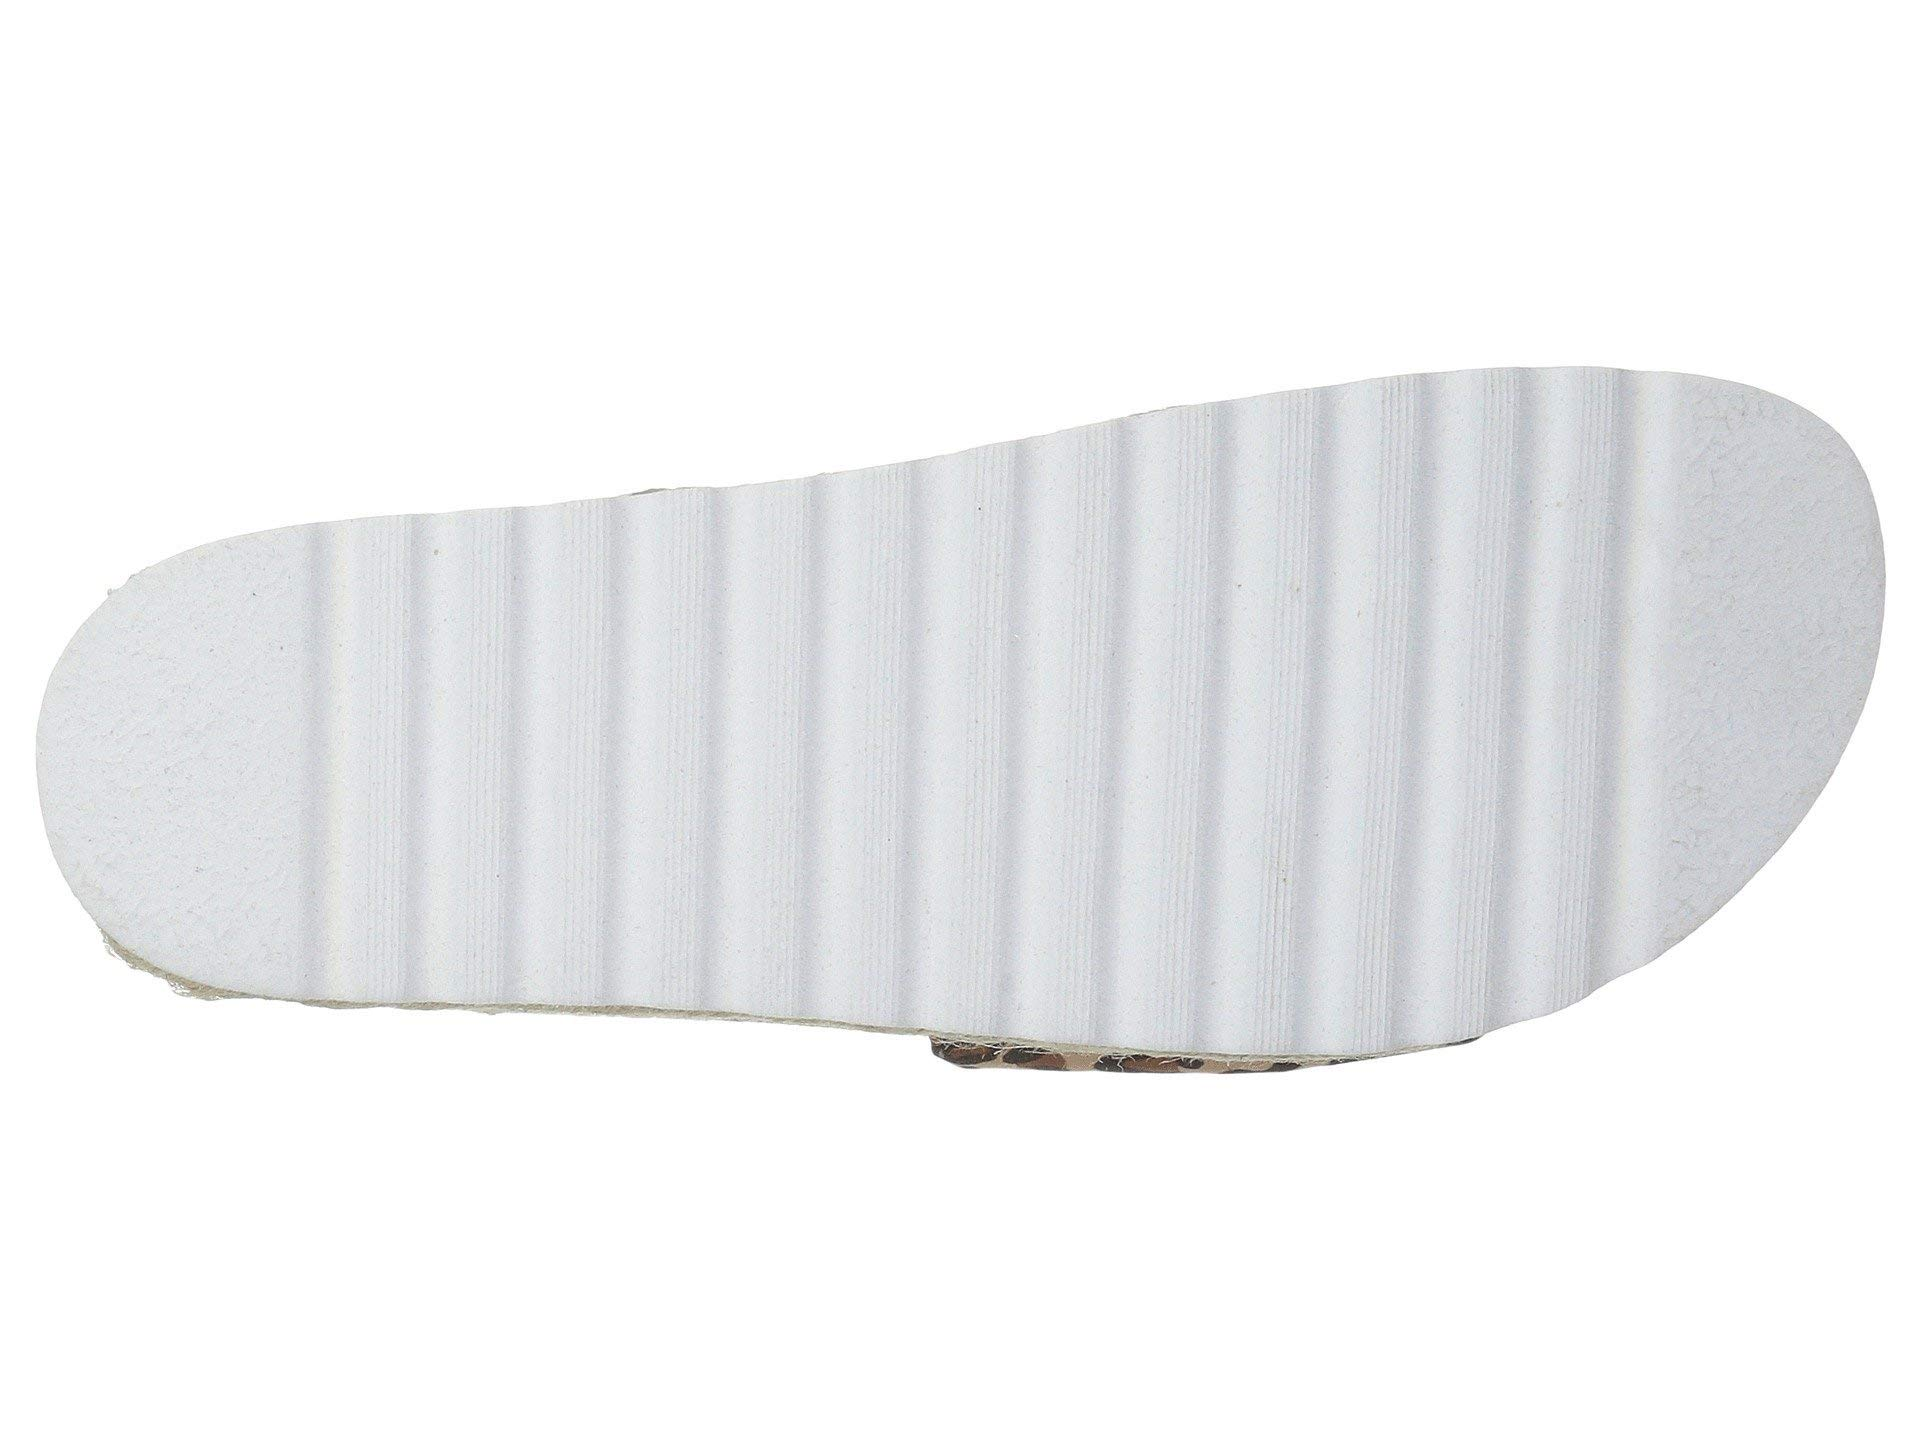line: (234, 538, 1725, 911)
